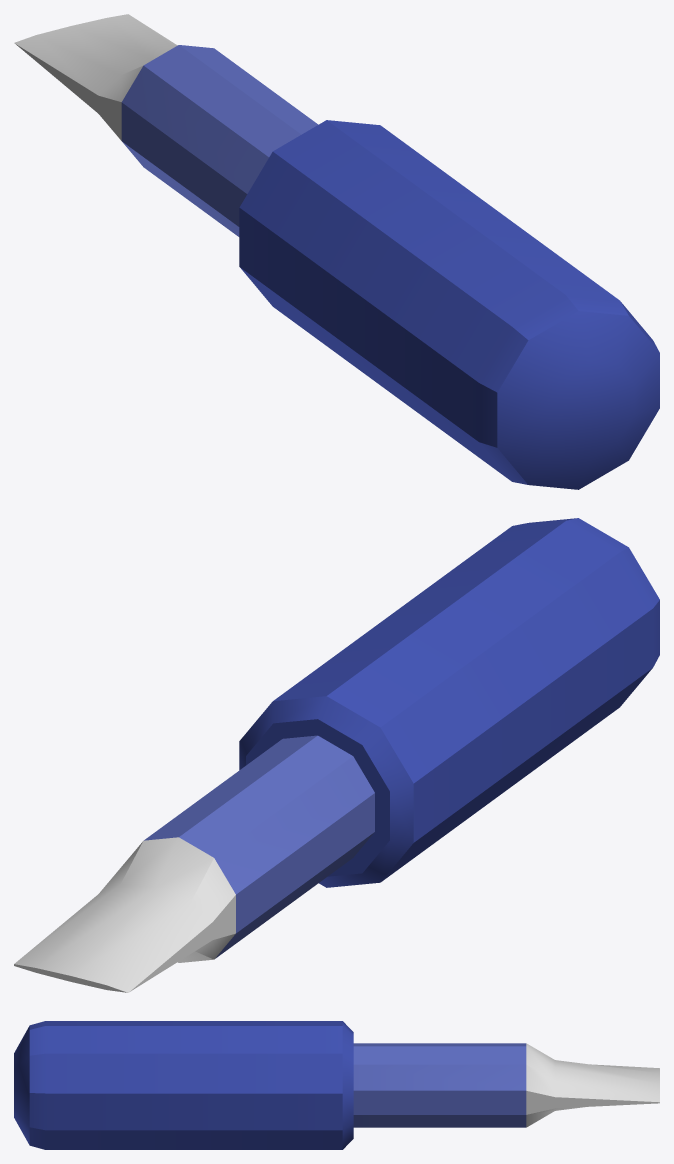
The model's file is Screwdriver.fbx.
3 views of the same model, one above another, from view 1: azimuth 30°, elevation 25°; view 2: azimuth 150°, elevation 25°; view 3: azimuth 270°, elevation 25° (orthographic). The views are drawn at different scales.
Parts seen in each view (by area): view 1: Screwdriver; view 2: Screwdriver; view 3: Screwdriver.
Part boxes in pixels (x1,y1,x2,y2): Screwdriver: (14, 14, 659, 489); Screwdriver: (14, 518, 659, 992); Screwdriver: (14, 1021, 659, 1149).
Size of the model in its own units: 4.25 by 4.47 by 21.95.
Materials: 1 (1 with a texture image).
